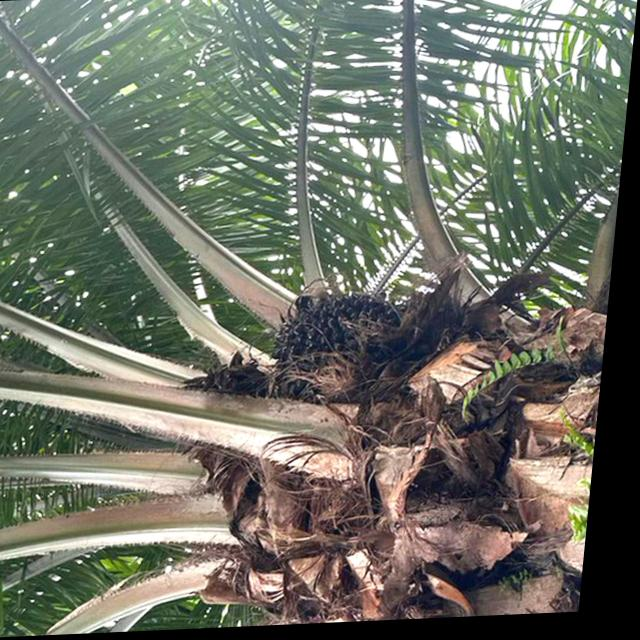unripe: (271, 288, 414, 404)
